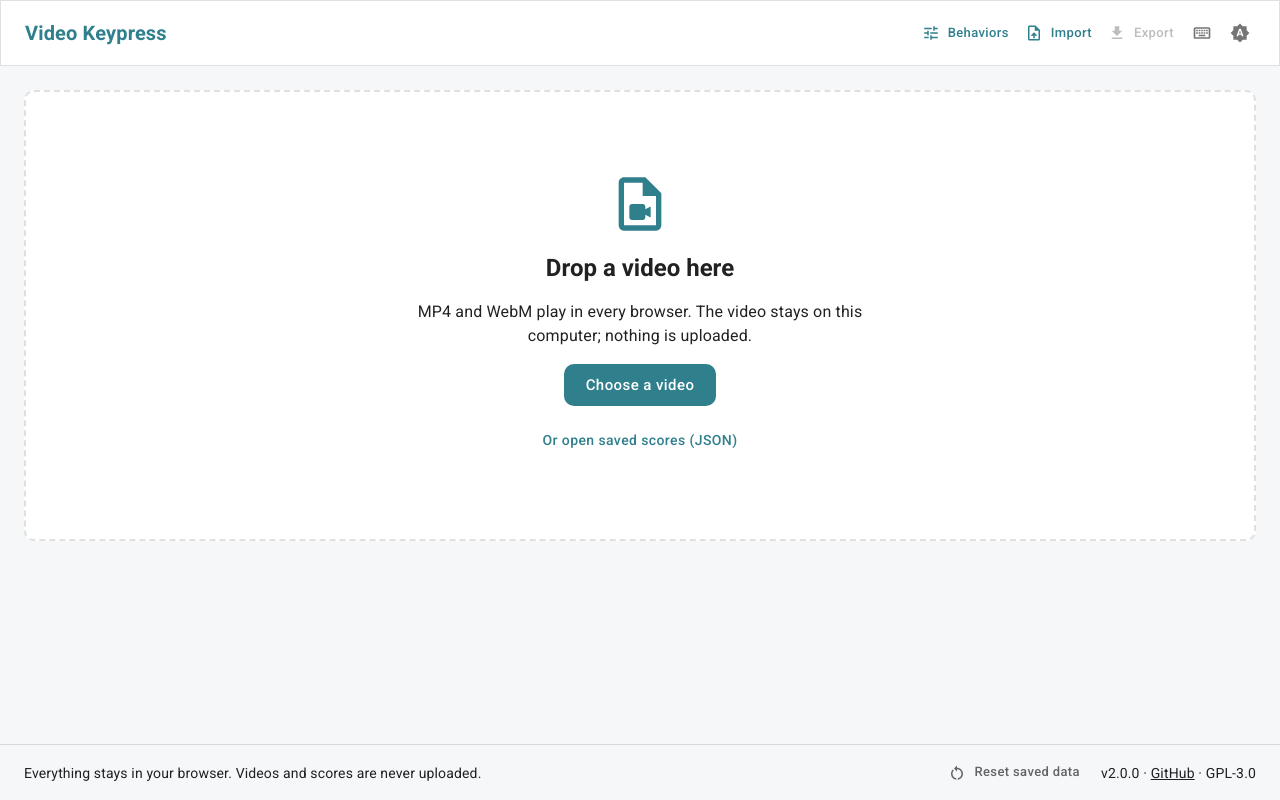
App › cycles the theme between system, light and dark
Click the button named "Theme: match the system": point(1240, 33) [1225,18,1255,48]
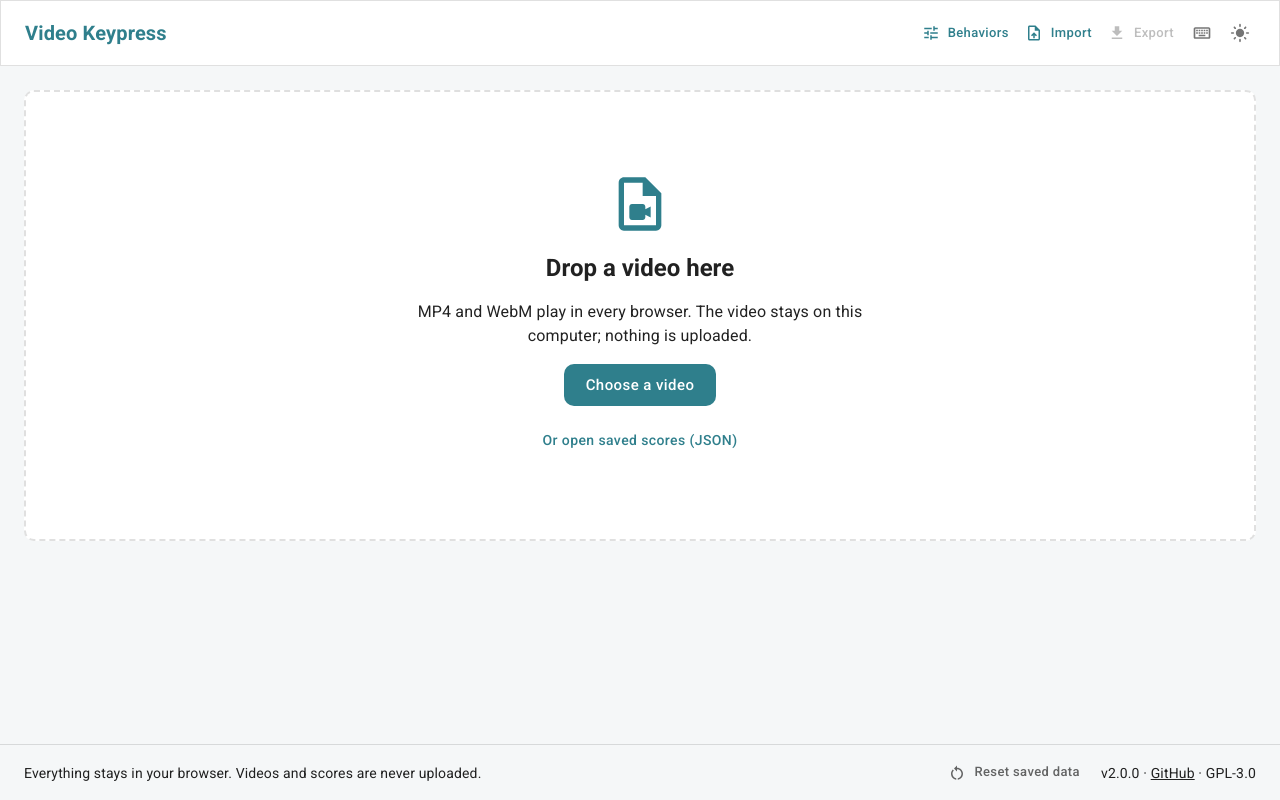
Expected: the button named "Theme: light" is shown
Click the button named "Theme: light": point(1240, 33) [1225,18,1255,48]
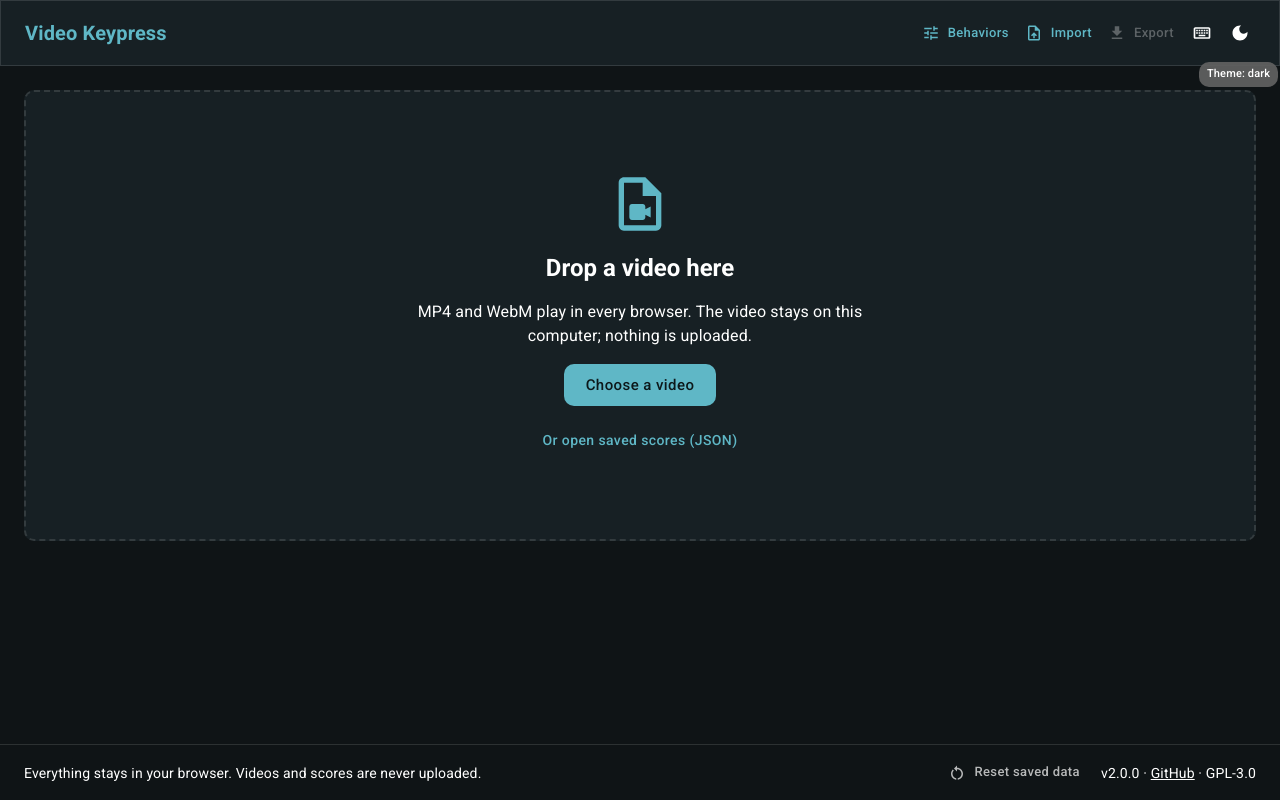
Expected: the button named "Theme: dark" is shown, [1225,18,1255,48]
